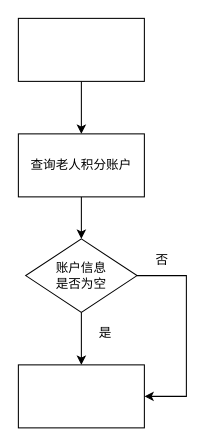
This 213x446 diagram has some shape labels left out. The box of each missing label's shape, as (x1, y1, x2, y2) in pixels:
监听消息: (17, 17, 144, 81)
组装数据 新增积分账户: (17, 364, 144, 428)
